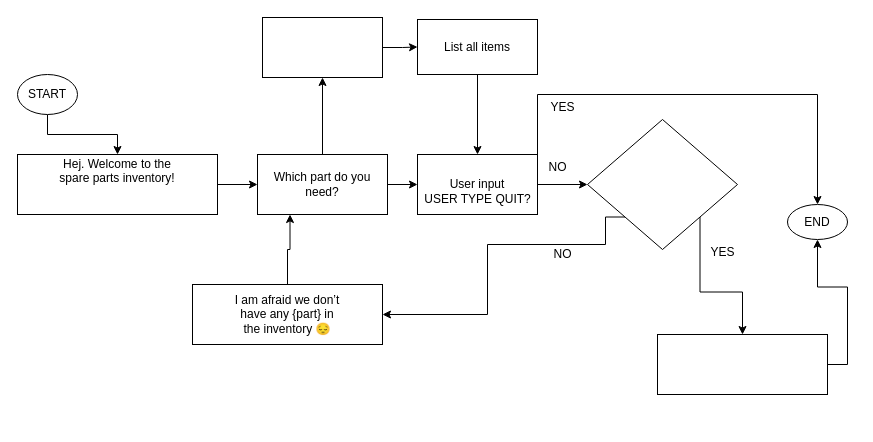
The diagram is 873 pixels wide and 442 high, and some of its shapes have lost their labels. Here are the shapes that lost their labels. From the top down, the centre of each, then its label:
At [322,47]: "Special query".
At [662,184]: "Do we have this part?".
At [742,364]: "I have got {part} here for you 😊. Bye!".
